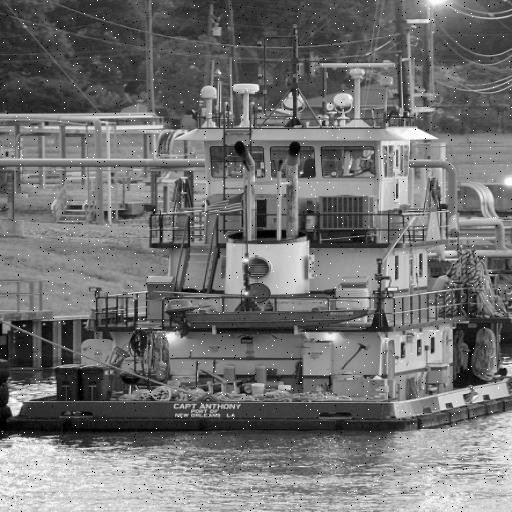tugboat: (5, 61, 512, 438)
